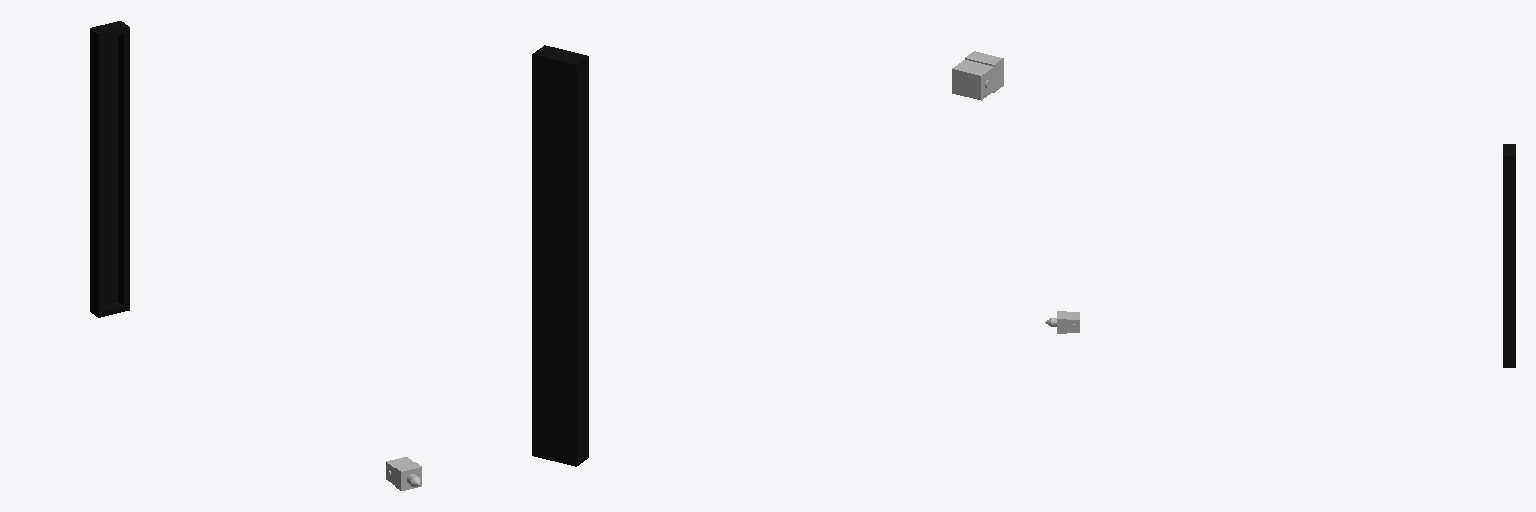
The robot description file, URDF, robot "scara_setup":
<robot
  name="scara_setup">
  <link
    name="frame">
    <inertial>
      <origin
        xyz="1.3844408662302E-17 0.00321259358385474 0.261"
        rpy="0 0 0" />
      <mass
        value="1.493046" />
      <inertia
        ixx="0.0358036406167454"
        ixy="5.47977803491302E-19"
        ixz="2.27329839952438E-18"
        iyy="0.0363239091207001"
        iyz="5.42060051450622E-18"
        izz="0.000727504353445348" />
    </inertial>
    <visual>
      <origin
        xyz="0 0 0"
        rpy="0 0 0" />
      <geometry>
        <mesh
          filename="package://scara_setup_model/meshes/base_link.STL" />
      </geometry>
      <material
        name="">
        <color
          rgba="0.101960784313725 0.101960784313725 0.101960784313725 1" />
      </material>
    </visual>
    <collision>
      <origin
        xyz="0 0 0"
        rpy="0 0 0" />
      <geometry>
        <mesh
          filename="package://scara_setup_model/meshes/base_link.STL" />
      </geometry>
    </collision>
  </link>
  <link
    name="Cart">
    <inertial>
      <origin
        xyz="7.5418545308525E-16 0.0316476937505298 -0.0055045146502736"
        rpy="0 0 0" />
      <mass
        value="0.571810586822584" />
      <inertia
        ixx="0.0012650642271779"
        ixy="-2.79830099705637E-19"
        ixz="3.17194898729487E-20"
        iyy="0.00043905267530355"
        iyz="-9.10320245977086E-05"
        izz="0.00106491934489785" />
    </inertial>
    <visual>
      <origin
        xyz="0 0 0"
        rpy="0 0 0" />
      <geometry>
        <mesh
          filename="package://scara_setup_model/meshes/Cart.STL" />
      </geometry>
      <material
        name="">
        <color
          rgba="0.752941176470588 0.752941176470588 0.752941176470588 1" />
      </material>
    </visual>
    <collision>
      <origin
        xyz="0 0 0"
        rpy="0 0 0" />
      <geometry>
        <mesh
          filename="package://scara_setup_model/meshes/Cart.STL" />
      </geometry>
    </collision>
  </link>
  <joint
    name="Linear"
    type="prismatic">
    <origin
      xyz="0 -0.0185 0.049"
      rpy="3.1416 0 0" />
    <parent
      link="frame" />
    <child
      link="Cart" />
    <axis
      xyz="0 0 -1" />
    <limit
      lower="0"
      upper="0.4"
      effort="0"
      velocity="0" />
  </joint>
  <link
    name="Arm">
    <inertial>
      <origin
        xyz="-0.175 -0.0203005702056909 4.67062637625889E-16"
        rpy="0 0 0" />
      <mass
        value="0.313727406555667" />
      <inertia
        ixx="7.33963970221476E-05"
        ixy="3.72694496791892E-20"
        ixz="1.71820782957866E-19"
        iyy="0.0068480445038199"
        iyz="-1.28131378462755E-21"
        izz="0.006840237379281" />
    </inertial>
    <visual>
      <origin
        xyz="0 0 0"
        rpy="0 0 0" />
      <geometry>
        <mesh
          filename="package://scara_setup_model/meshes/Arm.STL" />
      </geometry>
      <material
        name="">
        <color
          rgba="0.752941176470588 0.752941176470588 0.752941176470588 1" />
      </material>
    </visual>
    <collision>
      <origin
        xyz="0 0 0"
        rpy="0 0 0" />
      <geometry>
        <mesh
          filename="package://scara_setup_model/meshes/Arm.STL" />
      </geometry>
    </collision>
  </link>
  <joint
    name="Shoulder"
    type="revolute">
    <origin
      xyz="0 0.094508 0.0285"
      rpy="-1.5708 0 -1.5708" />
    <parent
      link="Cart" />
    <child
      link="Arm" />
    <axis
      xyz="0 -1 0" />
    <limit
      lower="-1.57"
      upper="1.57"
      effort="0"
      velocity="0" />
  </joint>
  <link
    name="ForeArm">
    <inertial>
      <origin
        xyz="0.016044 0.14438 -0.031349"
        rpy="0 0 0" />
      <mass
        value="0.46163" />
      <inertia
        ixx="0.01102"
        ixy="-0.0001634"
        ixz="-5.2062E-05"
        iyy="0.00025416"
        iyz="0.00031928"
        izz="0.010944" />
    </inertial>
    <visual>
      <origin
        xyz="0 0 0"
        rpy="0 0 0" />
      <geometry>
        <mesh
          filename="package://scara_setup_model/meshes/ForeArm.STL" />
      </geometry>
      <material
        name="">
        <color
          rgba="0.75294 0.75294 0.75294 1" />
      </material>
    </visual>
    <collision>
      <origin
        xyz="0 0 0"
        rpy="0 0 0" />
      <geometry>
        <mesh
          filename="package://scara_setup_model/meshes/ForeArm.STL" />
      </geometry>
    </collision>
  </link>
  <joint
    name="Elbow"
    type="revolute">
    <origin
      xyz="-0.35 0 0"
      rpy="7.3171E-17 -1.0978 1.5708" />
    <parent
      link="Arm" />
    <child
      link="ForeArm" />
    <axis
      xyz="-0.45558 0 0.8902" />
    <limit
      lower="-2.36"
      upper="2.36"
      effort="0"
      velocity="0" />
  </joint>
  <link
    name="Hand">
    <inertial>
      <origin
        xyz="-0.028358 0.039701 3.8215E-16"
        rpy="0 0 0" />
      <mass
        value="0.281" />
      <inertia
        ixx="0.00019852"
        ixy="-1.7563E-05"
        ixz="-3.1422E-20"
        iyy="0.00027055"
        iyz="-1.2638E-20"
        izz="0.00038709" />
    </inertial>
    <visual>
      <origin
        xyz="0 0 0"
        rpy="0 0 0" />
      <geometry>
        <mesh
          filename="package://scara_setup_model/meshes/Hand.STL" />
      </geometry>
      <material
        name="">
        <color
          rgba="0.75294 0.75294 0.75294 1" />
      </material>
    </visual>
    <collision>
      <origin
        xyz="0 0 0"
        rpy="0 0 0" />
      <geometry>
        <mesh
          filename="package://scara_setup_model/meshes/Hand.STL" />
      </geometry>
    </collision>
  </link>
  <joint
    name="Wrist"
    type="revolute">
    <origin
      xyz="0.022096 0.37901 -0.043174"
      rpy="-1.0978 -1.5187E-17 -1.5708" />
    <parent
      link="ForeArm" />
    <child
      link="Hand" />
    <axis
      xyz="0 -1 0" />
    <limit
      lower="-2.36"
      upper="2.36"
      effort="0"
      velocity="0" />
  </joint>
  <link
    name="Finger">
    <inertial>
      <origin
        xyz="0.013252 -3.8887E-16 1.3878E-17"
        rpy="0 0 0" />
      <mass
        value="0.18562" />
      <inertia
        ixx="4.051E-05"
        ixy="9.2093E-21"
        ixz="-8.2488E-21"
        iyy="6.2332E-05"
        iyz="1.0989E-21"
        izz="7.0561E-05" />
    </inertial>
    <visual>
      <origin
        xyz="0 0 0"
        rpy="0 0 0" />
      <geometry>
        <mesh
          filename="package://scara_setup_model/meshes/Finger.STL" />
      </geometry>
      <material
        name="">
        <color
          rgba="0.75294 0.75294 0.75294 1" />
      </material>
    </visual>
    <collision>
      <origin
        xyz="0 0 0"
        rpy="0 0 0" />
      <geometry>
        <mesh
          filename="package://scara_setup_model/meshes/Finger.STL" />
      </geometry>
    </collision>
  </link>
  <joint
    name="FingerJoint"
    type="revolute">
    <origin
      xyz="-0.12711 0.0285 0"
      rpy="-1.5708 -6.123E-17 3.1416" />
    <parent
      link="Hand" />
    <child
      link="Finger" />
    <axis
      xyz="0 1 0" />
    <limit
      lower="-1.57"
      upper="1.57"
      effort="0"
      velocity="0" />
  </joint>
  
	<transmission name="TransmissionLinear">
		<type>transmission_interface/SimpleTransmission</type>
		<joint name="Linear">
			<hardwareInterface>EffortJointInterface</hardwareInterface>
		</joint>
		<actuator name="MotorLinear">
			<mechanicalReduction>167</mechanicalReduction>
			<hardwareInterface>EffortJointInterface</hardwareInterface>
		</actuator>
	</transmission>
	
	<transmission name="TransmissionShoulder">
		<type>transmission_interface/SimpleTransmission</type>
		<joint name="Shoulder">
			<hardwareInterface>EffortJointInterface</hardwareInterface>
		</joint>
		<actuator name="MotorShoulder">
			<mechanicalReduction>2</mechanicalReduction>
			<hardwareInterface>EffortJointInterface</hardwareInterface>
		</actuator>
	</transmission>
	
	<transmission name="TransmissionElbow">
		<type>transmission_interface/SimpleTransmission</type>
		<joint name="Elbow">
			<hardwareInterface>EffortJointInterface</hardwareInterface>
		</joint>
		<actuator name="MotorElbow">
			<mechanicalReduction>2</mechanicalReduction>
			<hardwareInterface>EffortJointInterface</hardwareInterface>
		</actuator>
	</transmission>
	
	<transmission name="TransmissionWrist">
		<type>transmission_interface/SimpleTransmission</type>
		<joint name="Wrist">
			<hardwareInterface>EffortJointInterface</hardwareInterface>
		</joint>
		<actuator name="MotorWrist">
			<mechanicalReduction>2</mechanicalReduction>
			<hardwareInterface>EffortJointInterface</hardwareInterface>
		</actuator>
	</transmission>
	
	<transmission name="TransmissionFinger">
		<type>transmission_interface/SimpleTransmission</type>
		<joint name="FingerJoint">
			<hardwareInterface>EffortJointInterface</hardwareInterface>
		</joint>
		<actuator name="MotorFinger">
			<mechanicalReduction>1</mechanicalReduction>
			<hardwareInterface>EffortJointInterface</hardwareInterface>
		</actuator>
	</transmission>
	
	<gazebo>
		<plugin name="gazebo_ros_control" filename="libgazebo_ros_control.so">
			<robotNamespace>/scara_setup</robotNamespace>
		</plugin>
	</gazebo>
</robot>

--- Render facts (derived) ---
3 views of the same robot in one strip: view 1: azimuth 30°, elevation 25°; view 2: azimuth 150°, elevation 25°; view 3: azimuth 270°, elevation 25° (orthographic).
Model scara_setup with 6 links and 5 joints (4 revolute, 1 prismatic), rooted at frame, posed every joint at zero.
Visible links, largest first — view 1: frame, Finger; view 2: frame, Finger; view 3: frame, Finger.
Boxes of the visible links, bbox=[...] form: frame: bbox=[90, 21, 129, 317]; Finger: bbox=[386, 457, 421, 490]; frame: bbox=[532, 45, 588, 466]; Finger: bbox=[952, 51, 1003, 100]; frame: bbox=[1503, 144, 1515, 367]; Finger: bbox=[1045, 311, 1079, 333].
Bounding box of the posed robot: 0.06 × 1.05 × 0.522 m (x, y, z).
Meshes: 6 distinct files referenced, 2 mesh visuals loaded (2 binary STL); not drawn: 4 (reference not matched to a file when rendering).